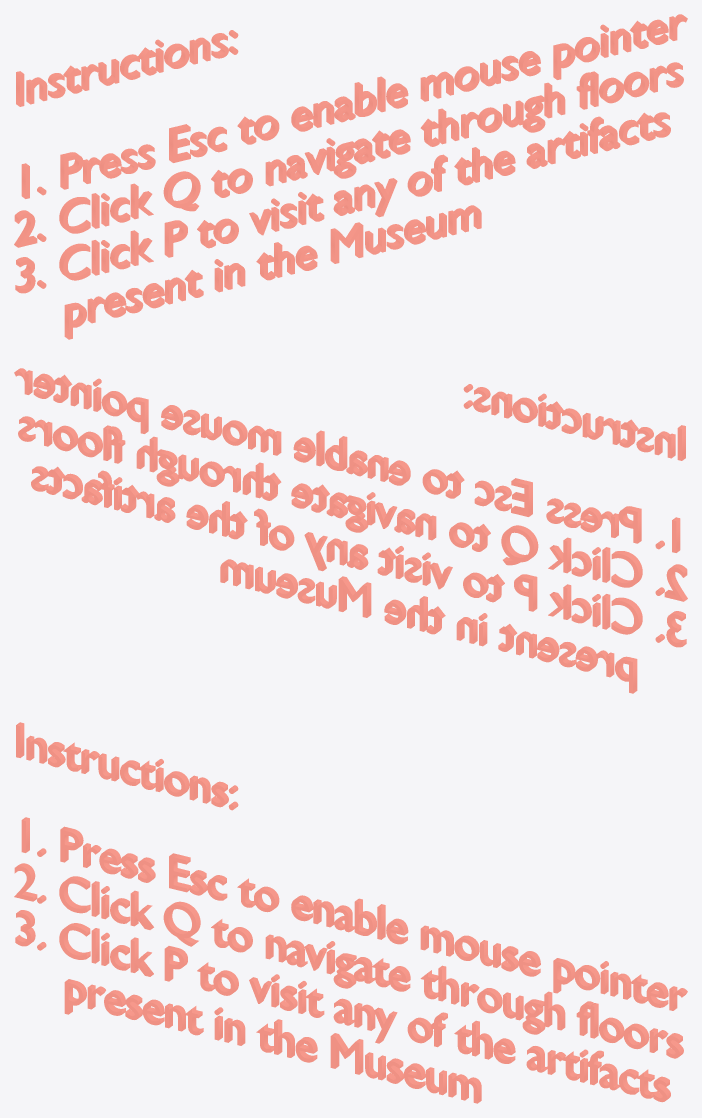
Rendered from instructions.glb.
The picture shows the model from 3 angles, top to bottom: view 1: azimuth 30°, elevation 25°; view 2: azimuth 150°, elevation 25°; view 3: azimuth 330°, elevation 25°; orthographic projection.
Visible parts, largest first — view 1: Text; view 2: Text; view 3: Text.
Boxes of the visible parts, bbox=[...] form: Text: bbox=[14, 14, 687, 339]; Text: bbox=[14, 368, 687, 693]; Text: bbox=[14, 722, 687, 1103].
Bounding box in the file's own units: 14.99 × 5.91 × 0.16.
